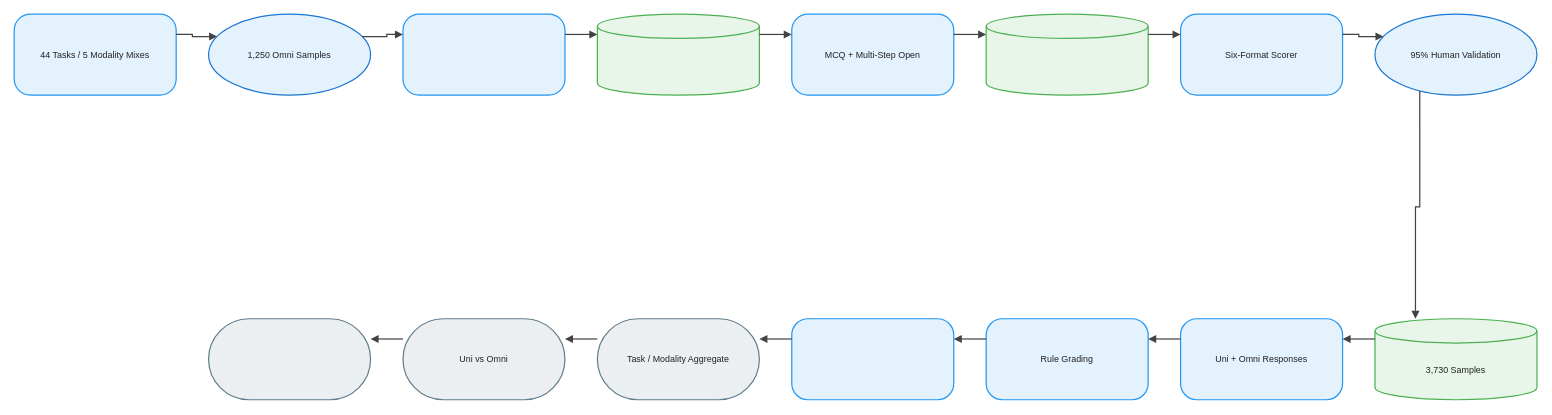
This 1552x415 diagram has some shape labels left out. The shapes that lost their labels are listed below. From the top down, each one's centre as x and y in pixels, then its label:
pixel 483 54: 98% Solvability Check
pixel 678 54: 2,480 Uni Samples
pixel 1066 54: Compressed Eval Set
pixel 289 359: Composition Analysis
pixel 872 359: General Scorer
